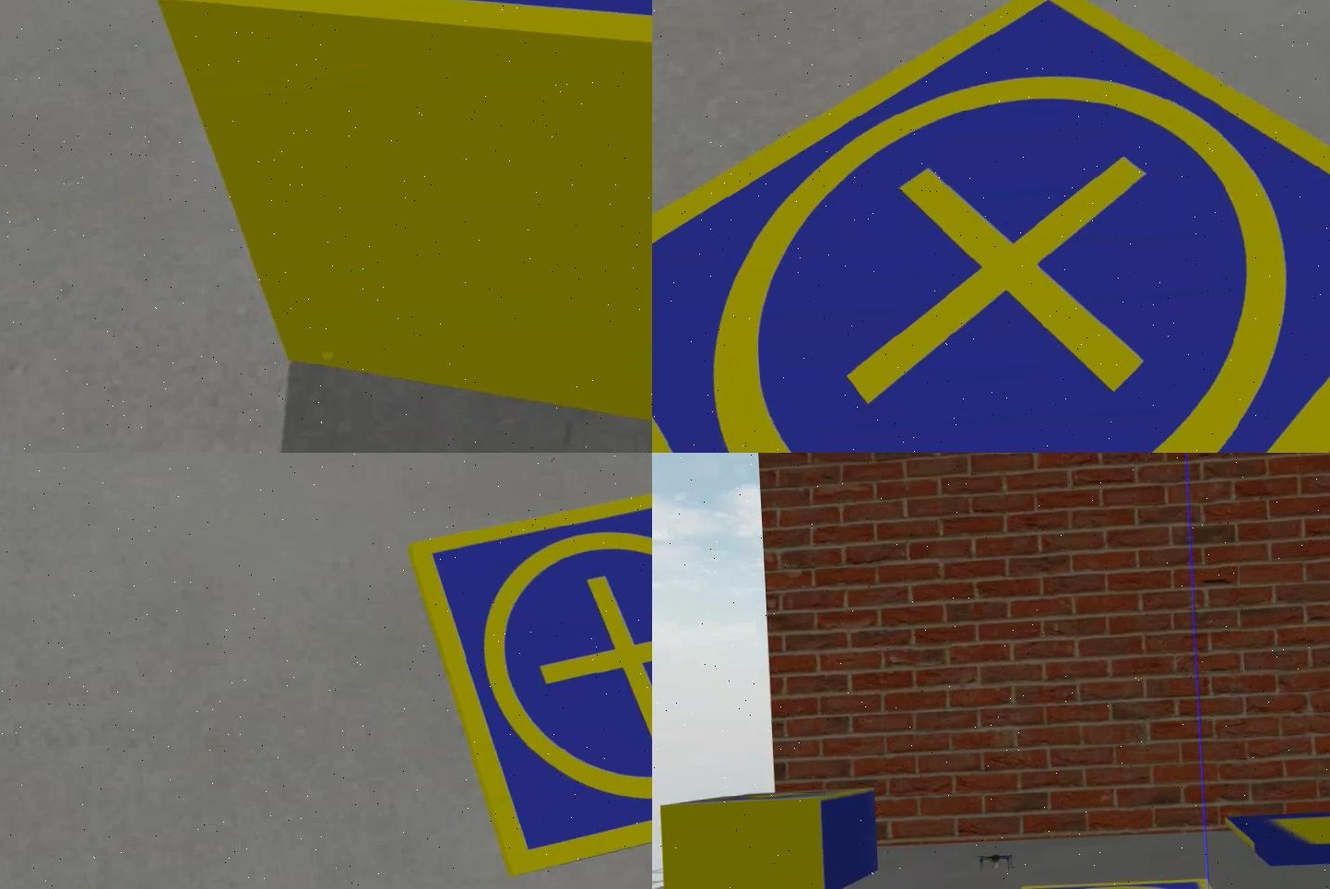large_base: (1220, 793, 1328, 872)
small_base: (651, 1, 1328, 454), (397, 468, 651, 886)
